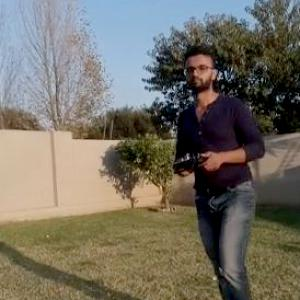follow: (172, 33, 278, 299)
